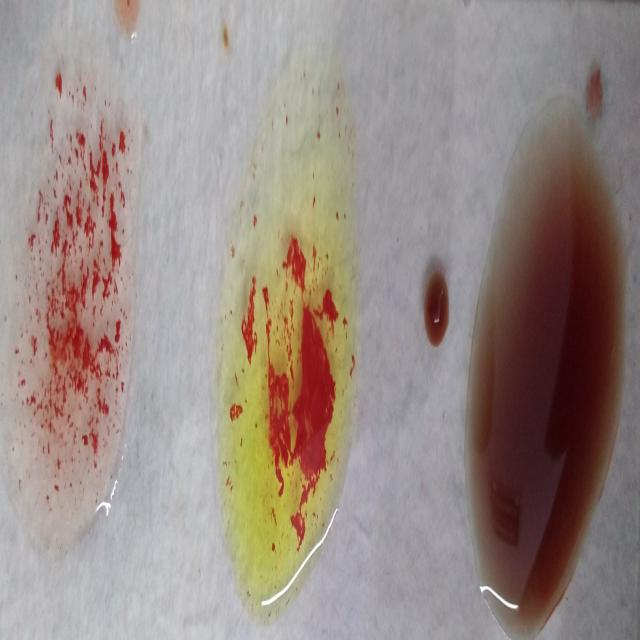B: (218, 33, 358, 622)
D: (6, 32, 135, 562)
